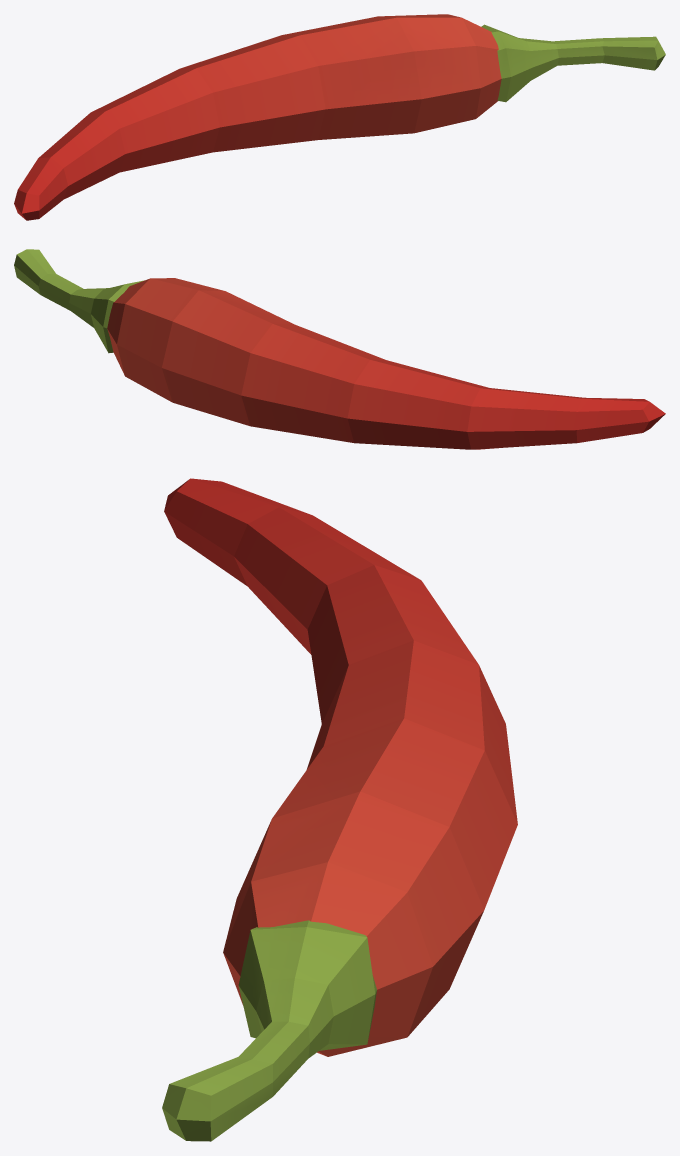
The model's file is chili_pepper_1.fbx.
3 views of the same model, one above another, from view 1: azimuth 30°, elevation 25°; view 2: azimuth 150°, elevation 25°; view 3: azimuth 270°, elevation 25° (orthographic). The views are drawn at different scales.
Visible parts, largest first — view 1: chili_pepper_1; view 2: chili_pepper_1; view 3: chili_pepper_1.
Boxes of the visible parts, x1,y1,x2,y2 form: chili_pepper_1: (14, 14, 665, 220); chili_pepper_1: (14, 249, 665, 449); chili_pepper_1: (162, 478, 517, 1141).
Bounding box in the file's own units: 0.1819 × 0.0307 × 0.0437.
